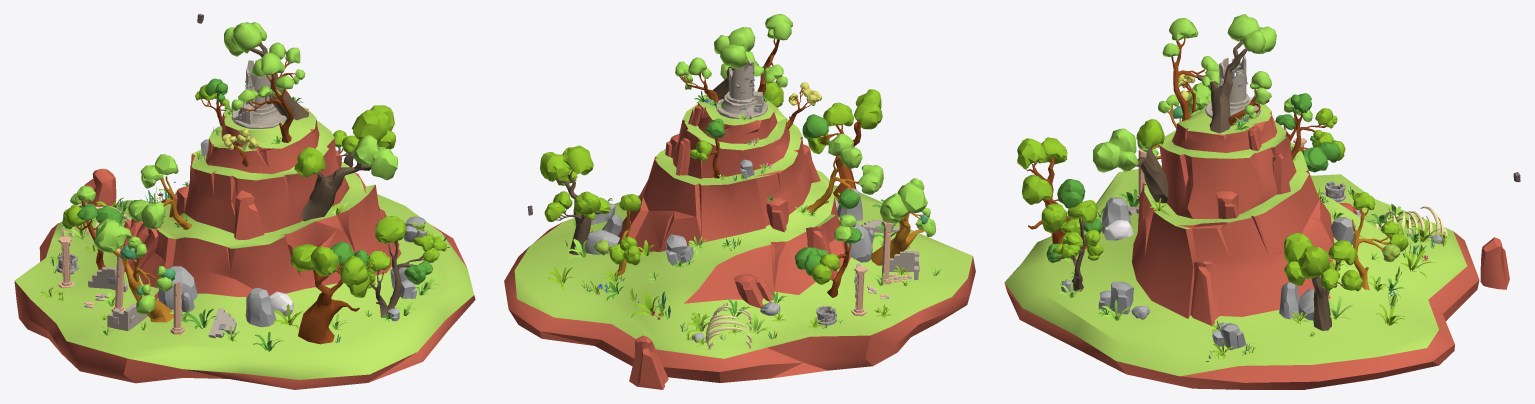
File: island_medium.glb
3 views of the same model, side by side, from view 1: azimuth 30°, elevation 25°; view 2: azimuth 150°, elevation 25°; view 3: azimuth 270°, elevation 25° (orthographic). The views are drawn at different scales.
Parts seen in each view (by area): view 1: Plane.014_108, Cube.016_14, Cube.070_68, Cylinder.002_87, Mball.005_126, Mball.112_122, Mball.021_112, Mball.004_116, Cube.076_265, Mball.001_125, Icosphere.003_96, Mball.035_2 (+21 smaller); view 2: Plane.014_108, Cylinder.002_87, Mball.005_126, Cube.080_270, Mball.035_2, Mball.001_125, Mball.112_122, Mball.004_116, Cube.013_11, Mball.061_167, Cube.038_39, Cube.074_260 (+17 smaller); view 3: Plane.014_108, Mball.005_126, Cube.077_266, Mball.021_112, Cube.015_81, Mball.001_125, Cube.080_270, Cylinder.002_87, Mball.004_116, Mball.112_122, Cube.070_68, Cube.038_39 (+19 smaller).
Boxes of the visible parts, box(x1,y1,x2,y2) form: Plane.014_108: box(14, 106, 475, 389); Cube.016_14: box(298, 268, 359, 344); Cube.070_68: box(301, 162, 371, 221); Cylinder.002_87: box(231, 60, 286, 128); Mball.005_126: box(352, 105, 395, 149); Mball.112_122: box(231, 52, 294, 110); Mball.021_112: box(353, 135, 397, 180); Mball.004_116: box(290, 244, 338, 276); Cube.076_265: box(234, 190, 264, 240); Mball.001_125: box(224, 22, 266, 56); Icosphere.003_96: box(245, 287, 276, 327); Mball.035_2: box(94, 219, 131, 252); Plane.014_108: box(504, 91, 975, 382); Cylinder.002_87: box(716, 59, 767, 118); Mball.005_126: box(540, 145, 593, 185); Cube.080_270: box(629, 335, 668, 389); Mball.035_2: box(880, 182, 927, 222); Mball.001_125: box(714, 27, 755, 68); Mball.112_122: box(754, 14, 792, 87); Mball.004_116: box(854, 89, 882, 129); Cube.013_11: box(871, 211, 924, 265); Mball.061_167: box(828, 134, 862, 168); Cube.038_39: box(556, 170, 600, 254); Cube.074_260: box(733, 274, 763, 308); Plane.014_108: box(1004, 99, 1479, 389); Mball.005_126: box(1284, 233, 1329, 285); Cube.077_266: box(1190, 261, 1219, 325); Mball.021_112: box(1093, 128, 1138, 172); Cube.015_81: box(1196, 38, 1251, 133); Mball.001_125: box(1227, 14, 1276, 53); Cube.080_270: box(1480, 237, 1509, 289); Cylinder.002_87: box(1205, 55, 1260, 122); Mball.004_116: box(1017, 137, 1067, 169); Mball.112_122: box(1162, 18, 1219, 86); Cube.070_68: box(1136, 146, 1168, 203); Cube.038_39: box(1311, 276, 1331, 330).
Bounding box in the file's own units: 142 × 94.32 × 154.
